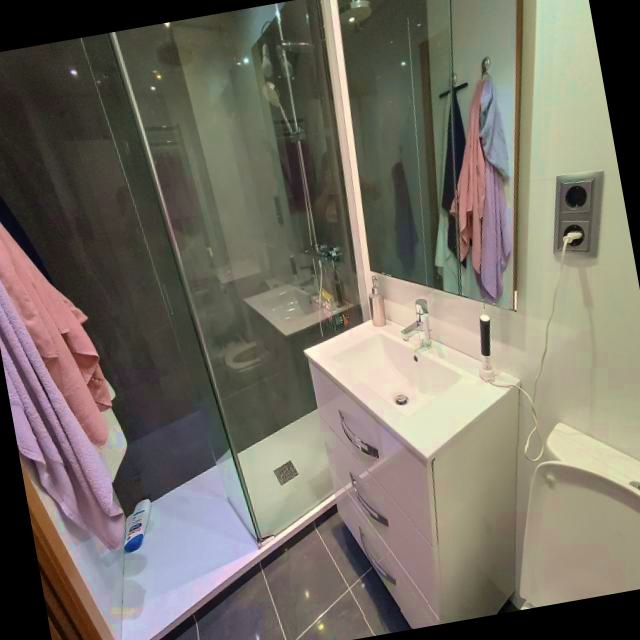cabinet: (309, 359, 518, 629)
table: (520, 422, 640, 610)
wardrobe: (304, 299, 521, 462)
